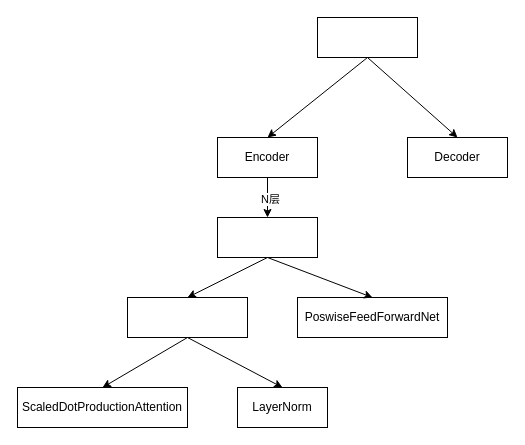
The diagram is 525 pixels wide and 445 high, and some of its shapes have lost their labels. Each missing label, with the centre of its shape:
"EncoderLayer" belongs at (267,237).
"MultiHeadAttention" belongs at (187,317).
"Transformer" belongs at (367,37).
